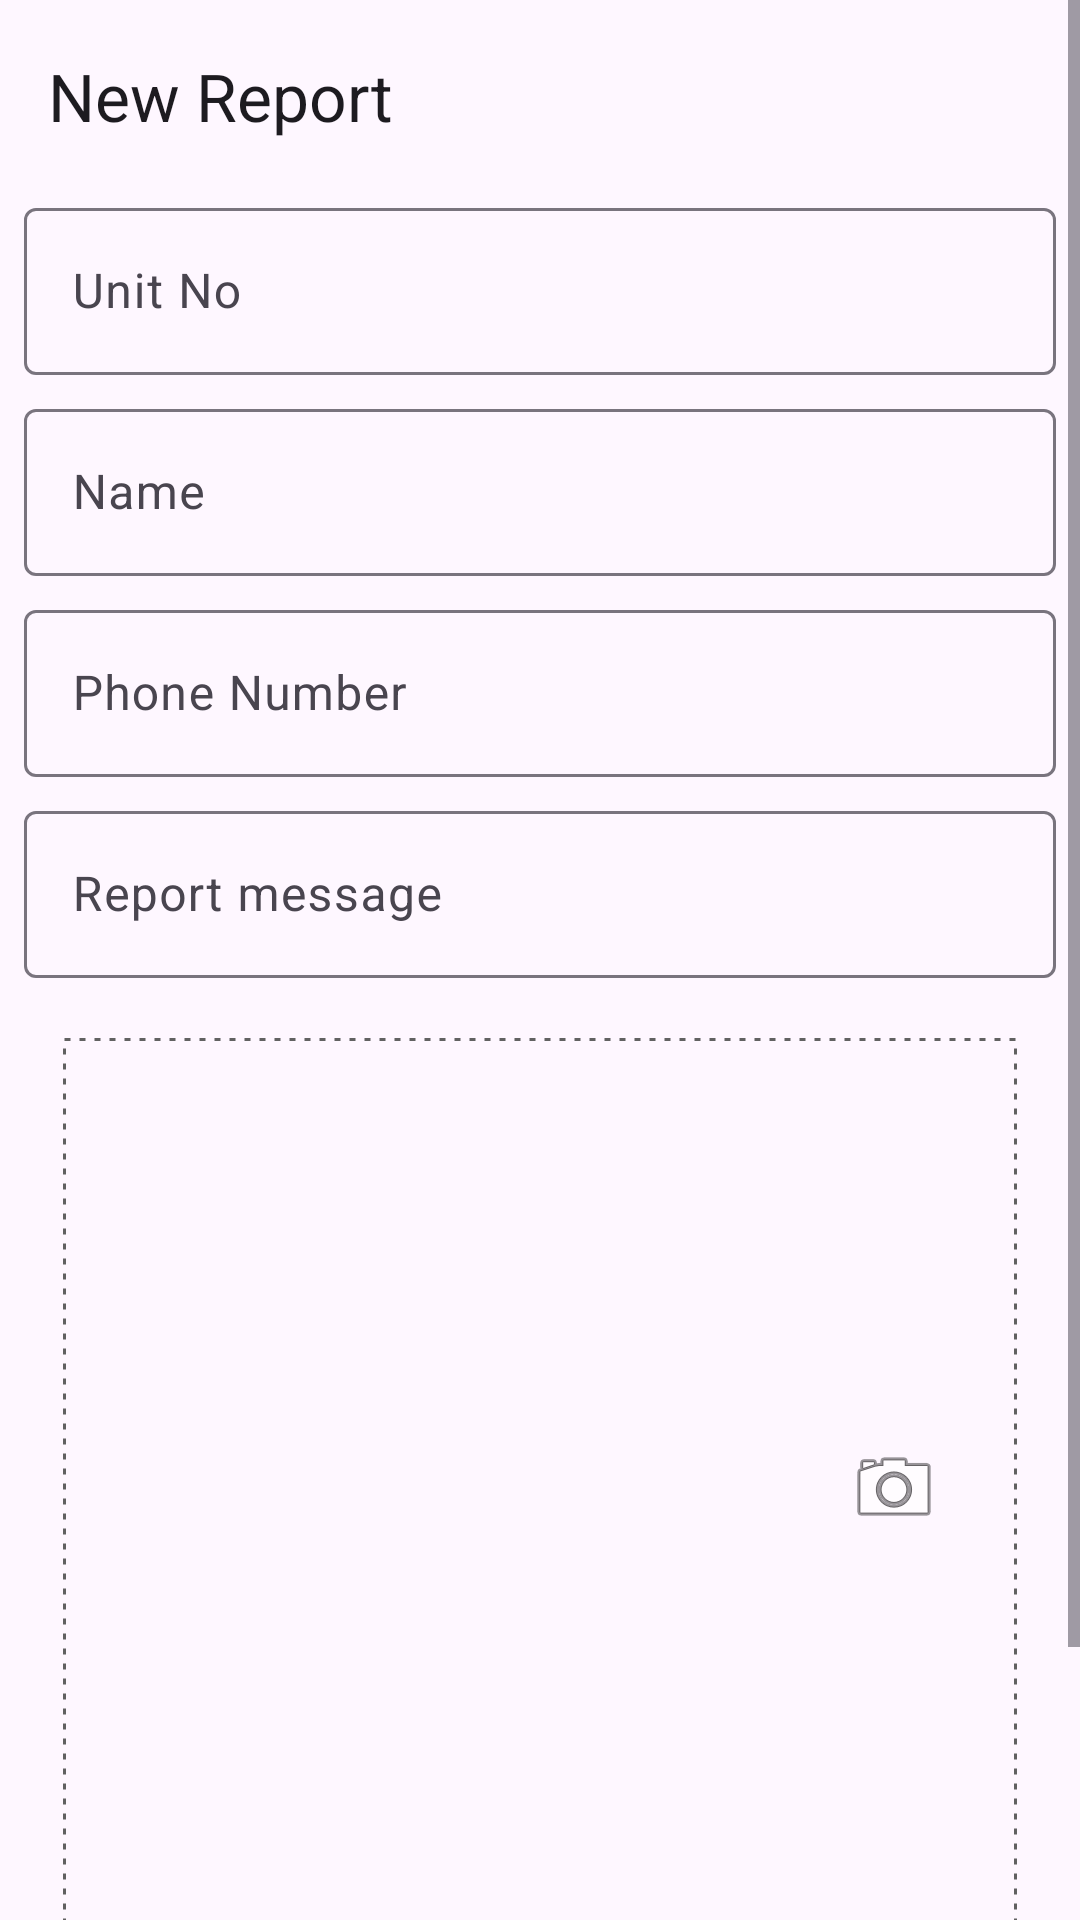

Icons on this 1080 x 1920 Android screen, each with the point to tap as point (x, y):
camera: point (894, 1486)
